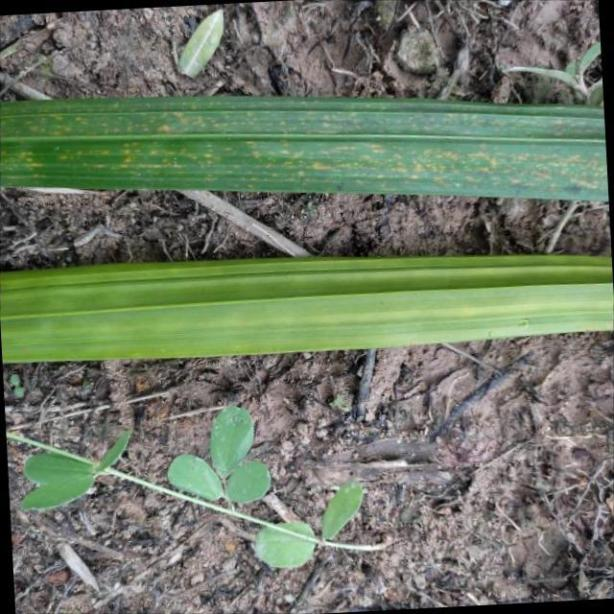nitrogen: (0, 246, 614, 363), (6, 92, 614, 196)
